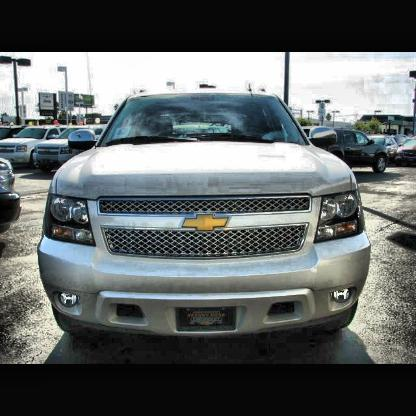Chevrolet Avalanche Crew Cab 2012: (30, 92, 381, 345)
